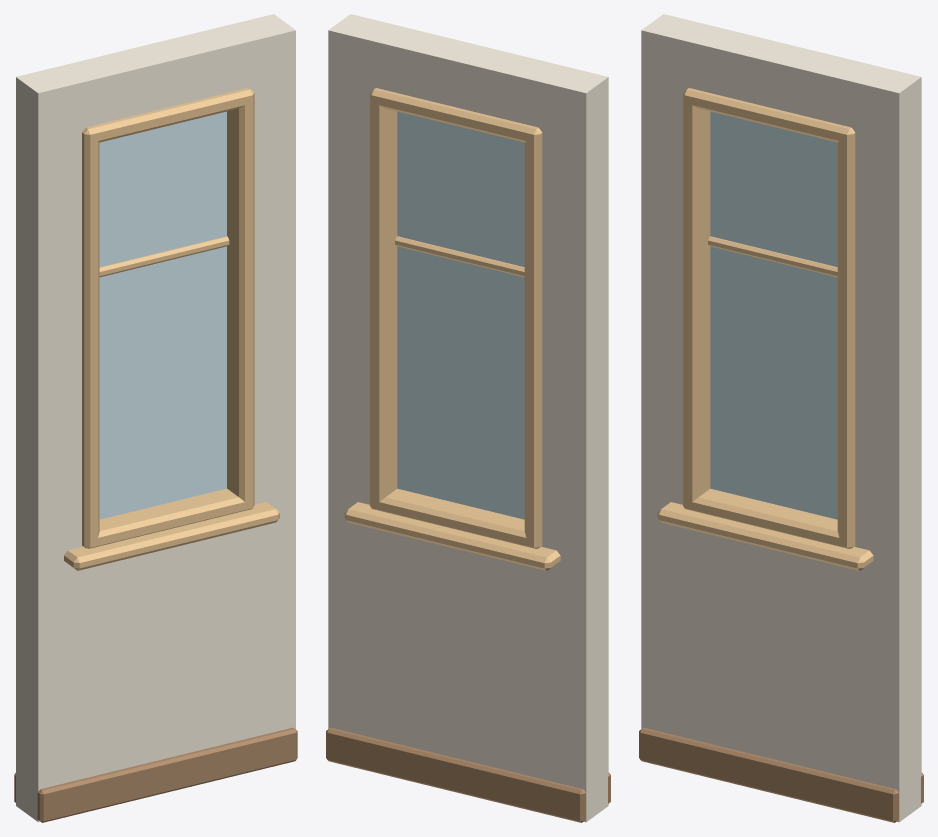
File: cozy-home-interiors-wall-window-1m-8154ce2d.glb
The picture shows the model from 3 angles, left to right: view 1: azimuth 30°, elevation 25°; view 2: azimuth 150°, elevation 25°; view 3: azimuth 330°, elevation 25°; orthographic projection.
Visible parts, largest first — view 1: wall-window-1m; view 2: wall-window-1m; view 3: wall-window-1m.
Part boxes in pixels (left/top/right/bottom): wall-window-1m: left=14, top=14, right=297, bottom=822; wall-window-1m: left=326, top=14, right=610, bottom=822; wall-window-1m: left=639, top=14, right=923, bottom=822.
Size of the model in its own units: 1 by 2.7 by 0.31.
